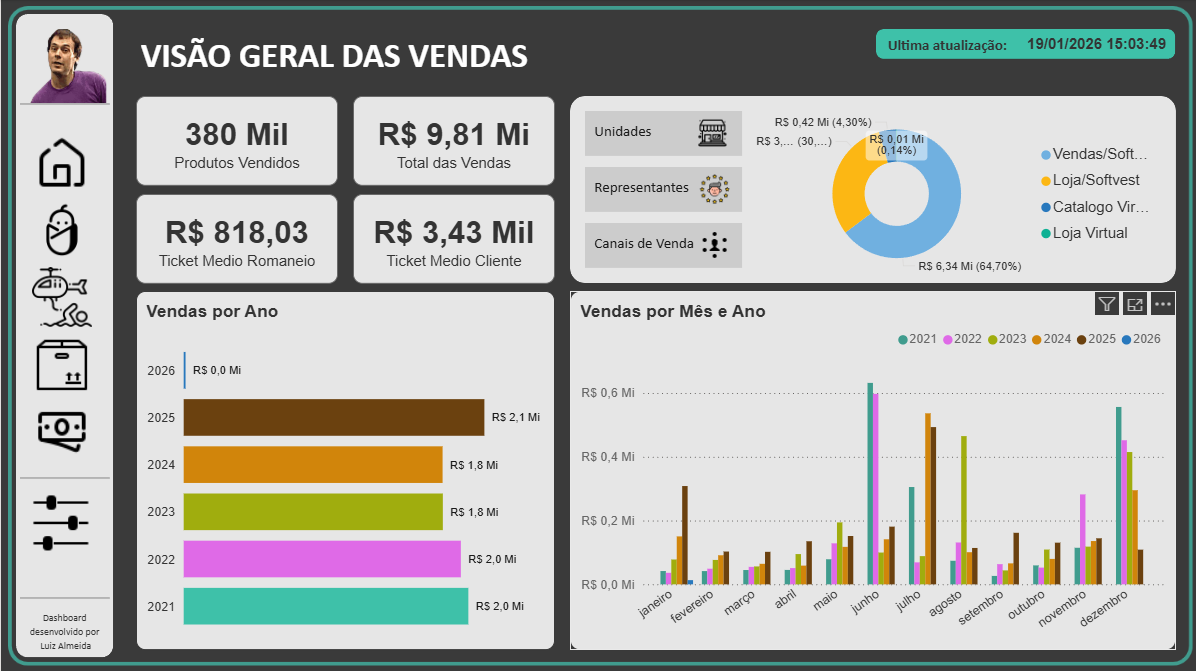

The dashboard page shown, as its layout file describes it:
{"tool":"powerbi","page":{"name":"Visão Geral","canvas":[1280,720],"ordinal":0},"visuals":[{"type":"shape","title":"MenuEsquerdo","box":[16,16,104,688],"z":0,"group":"g6"},{"type":"shape","title":"Ret Atualizacao","box":[936,32,320,32],"z":0,"group":"g5"},{"type":"shape","title":"FundoMulti","box":[608,104,648,200],"z":0},{"type":"textbox","title":"TxtLojas","box":[624,120,168,48],"z":0,"group":"g3"},{"type":"textbox","title":"TxtRepres","box":[624,180,168,48],"z":0,"group":"g1"},{"type":"textbox","title":"TxtCanal","box":[624,240,168,48],"z":0,"group":"g2"},{"type":"image","title":"Imagem Filtro","box":[32,528,64,64],"z":0,"group":"g4"},{"type":"card","title":"Car Atualizacao","fields":{"Values":["Min(UltimaAtualizacao.DataAtualizacao)"]},"box":[1088,32,168,32],"z":1000,"group":"g5"},{"type":"donutChart","title":"VendasUnidade","fields":{"Category":["VendasUnpivot.Unidade"],"Y":["Sum(VendasUnpivot.Preço Total Venda)"]},"box":[800,112,448,192],"z":1000},{"type":"image","title":"ImgLojas","box":[736,128,48,32],"z":1000,"group":"g3"},{"type":"image","title":"ImgRepres","box":[741.6,188,42,32],"z":1000,"group":"g1"},{"type":"image","title":"ImgCanal","box":[741.6,248,42,32],"z":1000,"group":"g2"},{"type":"actionButton","title":"Botão Filtro","box":[32,528,64,64],"z":1000,"group":"g4"},{"type":"textbox","title":"Creditos","box":[16,648,104,56],"z":1000,"group":"g6"},{"type":"image","title":"Logo","box":[16,32,112,80],"z":2000,"group":"g6"},{"type":"textbox","box":[944,32,144,32],"z":2000,"group":"g5"},{"type":"actionButton","title":"Botão Lojas","box":[624,120,168,48],"z":2000,"group":"g3"},{"type":"actionButton","title":"Botão Repres","box":[624,180,168,48],"z":2000,"group":"g1"},{"type":"actionButton","title":"Botão Canal","box":[624,240,168,48],"z":2000,"group":"g2"},{"type":"image","title":"BtnBancos","box":[32.9,430.9,64,64],"z":2250,"group":"g6"},{"type":"image","title":"BtnProdutos","box":[32.9,358.9,64,64],"z":2500,"group":"g6"},{"type":"image","title":"BtnVisaoGeral","box":[32.9,142.9,64,64],"z":3000,"group":"g6"},{"type":"group","id":"g1","title":"BtnRepres","box":[624,180,168,48],"z":4000},{"type":"image","title":"BtnClientes","box":[32.9,214.9,64,64],"z":4000,"group":"g6"},{"type":"group","id":"g2","title":"BtnCanal","box":[624,240,168,48],"z":5000},{"type":"image","title":"BtnResgate","box":[32.9,286.9,64,64],"z":5000,"group":"g6"},{"type":"group","id":"g3","title":"BtnLojas","box":[624,120,168,48],"z":6000},{"type":"group","id":"g4","title":"Btn Filtro","box":[32,528,64,64],"z":6000,"group":"g6"},{"type":"clusteredColumnChart","fields":{"Category":["VendasUnpivot.DtPedido.Variation.Hierarquia de datas.Mês1"],"Series":["VendasUnpivot.Ano"],"Y":["Sum(VendasUnpivot.Preço Total Venda)"]},"box":[608,312,648,384],"z":7000},{"type":"shape","title":"Div","box":[20,496,96,32],"z":7000,"group":"g6"},{"type":"clusteredBarChart","fields":{"Y":["Sum(VendasUnpivot.Preço Total Venda)"],"Category":["VendasUnpivot.Ano"]},"box":[144,312,448,384],"z":8000},{"type":"shape","title":"Div","box":[20,624,96,32],"z":8000,"group":"g6"},{"type":"shape","title":"Div","box":[20,96,96,32],"z":9000,"group":"g6"},{"type":"card","title":"Car Total Vendas","fields":{"Values":["Sum(VendasUnpivot.Preço Total Venda)"]},"box":[376,104,216,96],"z":9000},{"type":"card","title":"Car Produtos Vendidos","fields":{"Values":["Sum(VendasUnpivot.Quantidade)"]},"box":[144,104,216,96],"z":10000},{"type":"card","title":"Car Ticket Romaneio","fields":{"Values":["VendasUnpivot.Ticket Medio Romaneio"]},"box":[144,208,216,96],"z":11000},{"type":"card","title":"Car Ticket Cliente","fields":{"Values":["VendasUnpivot.Ticket Medio Cliente"]},"box":[376,208,216,96],"z":12000},{"type":"textbox","title":"Titulo Dash Geral","box":[144,32,448,64],"z":13000},{"type":"group","id":"g5","title":"Atualizacao","box":[936,32,320,32],"z":14000},{"type":"group","id":"g6","title":"MenuEsquerdo","box":[16,16,112,688],"z":16000}]}

Visuals, with their boxes in screenshot pixels (x1, y1, x2, y2), scaled from the page's 1280x720 canvas onto the 1196x671 screenshot:
"MenuEsquerdo" shape: left=15, top=15, right=112, bottom=656
"Ret Atualizacao" shape: left=875, top=30, right=1174, bottom=60
"FundoMulti" shape: left=568, top=97, right=1174, bottom=283
"TxtLojas" textbox: left=583, top=112, right=740, bottom=157
"TxtRepres" textbox: left=583, top=168, right=740, bottom=212
"TxtCanal" textbox: left=583, top=224, right=740, bottom=268
"Imagem Filtro" image: left=30, top=492, right=90, bottom=552
"Car Atualizacao" card: left=1017, top=30, right=1174, bottom=60
"VendasUnidade" donutChart: left=748, top=104, right=1166, bottom=283
"ImgLojas" image: left=688, top=119, right=733, bottom=149
"ImgRepres" image: left=693, top=175, right=732, bottom=205
"ImgCanal" image: left=693, top=231, right=732, bottom=261
"Botão Filtro" actionButton: left=30, top=492, right=90, bottom=552
"Creditos" textbox: left=15, top=604, right=112, bottom=656
"Logo" image: left=15, top=30, right=120, bottom=104
textbox: left=882, top=30, right=1017, bottom=60
"Botão Lojas" actionButton: left=583, top=112, right=740, bottom=157
"Botão Repres" actionButton: left=583, top=168, right=740, bottom=212
"Botão Canal" actionButton: left=583, top=224, right=740, bottom=268
"BtnBancos" image: left=31, top=402, right=91, bottom=461
"BtnProdutos" image: left=31, top=334, right=91, bottom=394
"BtnVisaoGeral" image: left=31, top=133, right=91, bottom=193
"BtnRepres" group: left=583, top=168, right=740, bottom=212
"BtnClientes" image: left=31, top=200, right=91, bottom=260
"BtnCanal" group: left=583, top=224, right=740, bottom=268
"BtnResgate" image: left=31, top=267, right=91, bottom=327
"BtnLojas" group: left=583, top=112, right=740, bottom=157
"Btn Filtro" group: left=30, top=492, right=90, bottom=552
clusteredColumnChart - VendasUnpivot.DtPedido.Variation.Hierarquia de datas.Mês1 x VendasUnpivot.Ano: left=568, top=291, right=1174, bottom=649
"Div" shape: left=19, top=462, right=108, bottom=492
clusteredBarChart - Sum(VendasUnpivot.Preço Total Venda) x VendasUnpivot.Ano: left=135, top=291, right=553, bottom=649
"Div" shape: left=19, top=582, right=108, bottom=611
"Div" shape: left=19, top=89, right=108, bottom=119
"Car Total Vendas" card: left=351, top=97, right=553, bottom=186
"Car Produtos Vendidos" card: left=135, top=97, right=336, bottom=186
"Car Ticket Romaneio" card: left=135, top=194, right=336, bottom=283
"Car Ticket Cliente" card: left=351, top=194, right=553, bottom=283
"Titulo Dash Geral" textbox: left=135, top=30, right=553, bottom=89
"Atualizacao" group: left=875, top=30, right=1174, bottom=60
"MenuEsquerdo" group: left=15, top=15, right=120, bottom=656
